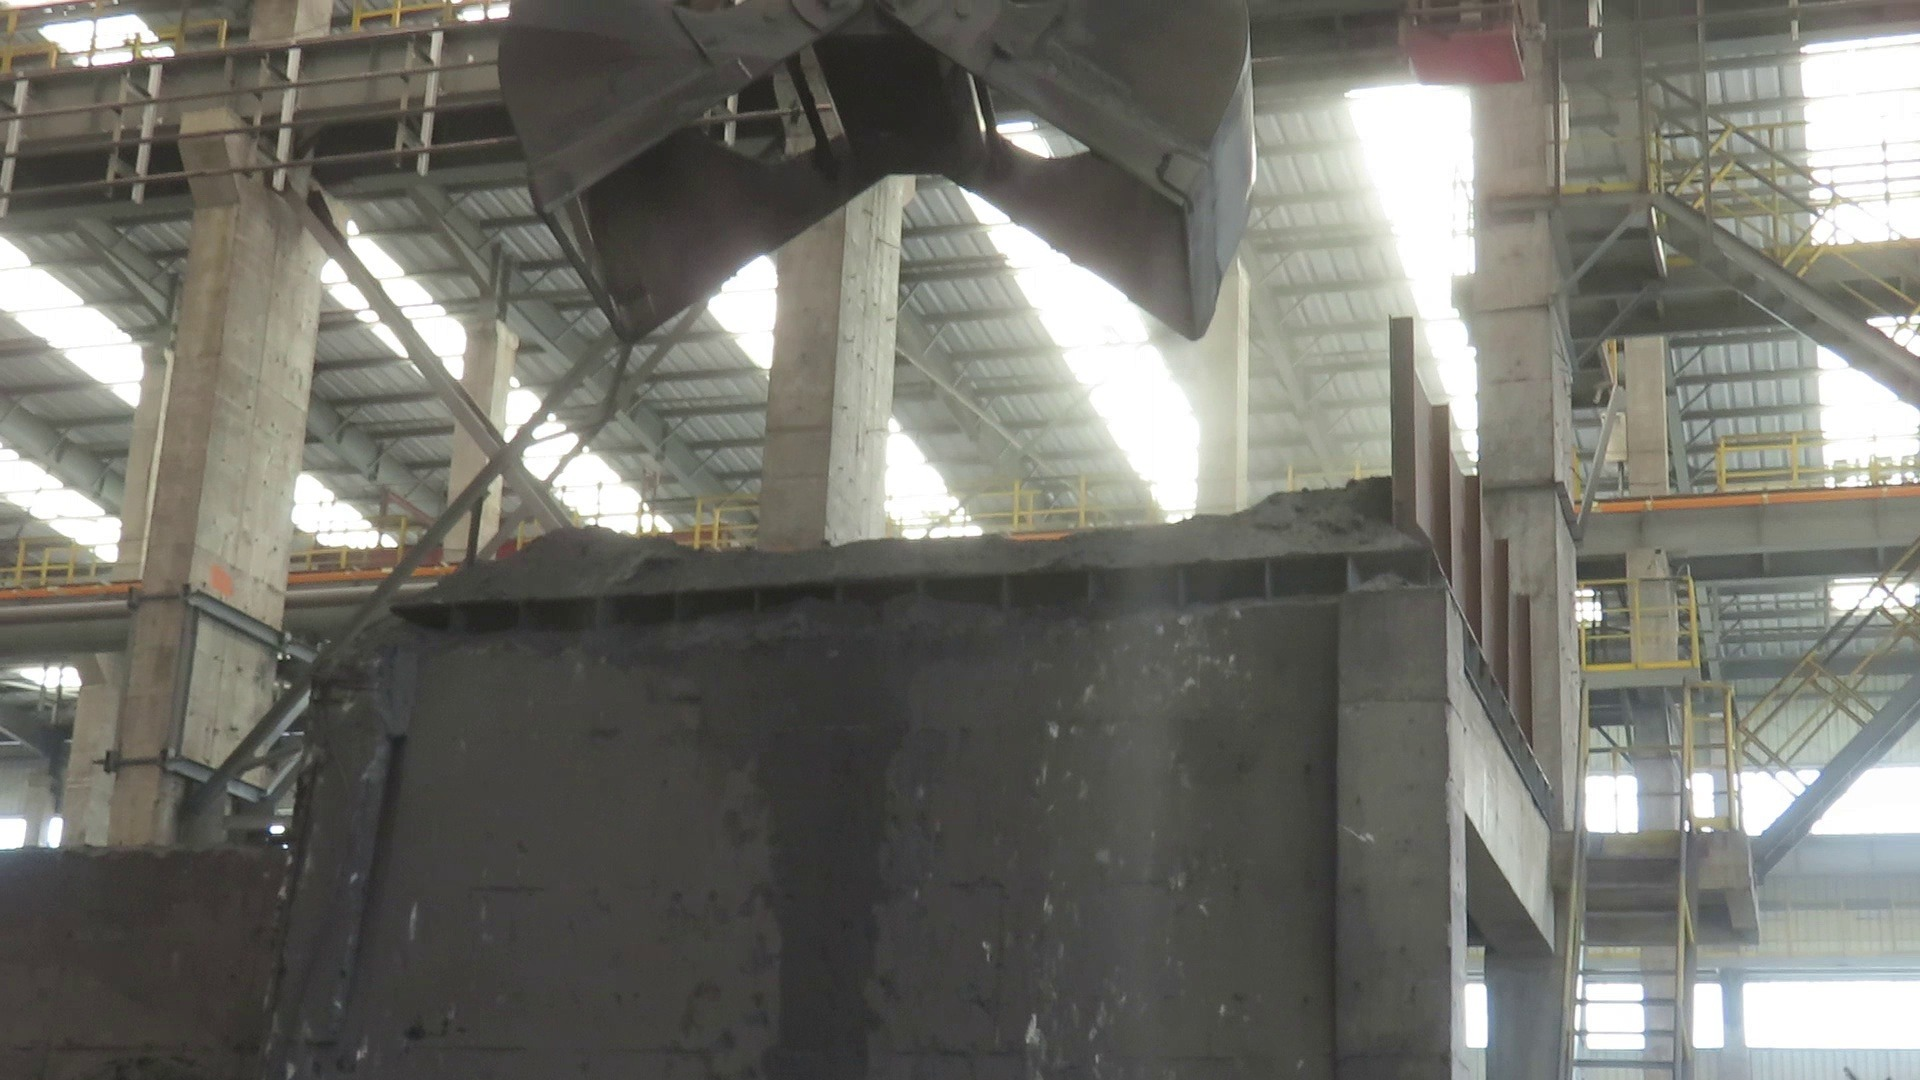grab: (512, 0, 1263, 348)
